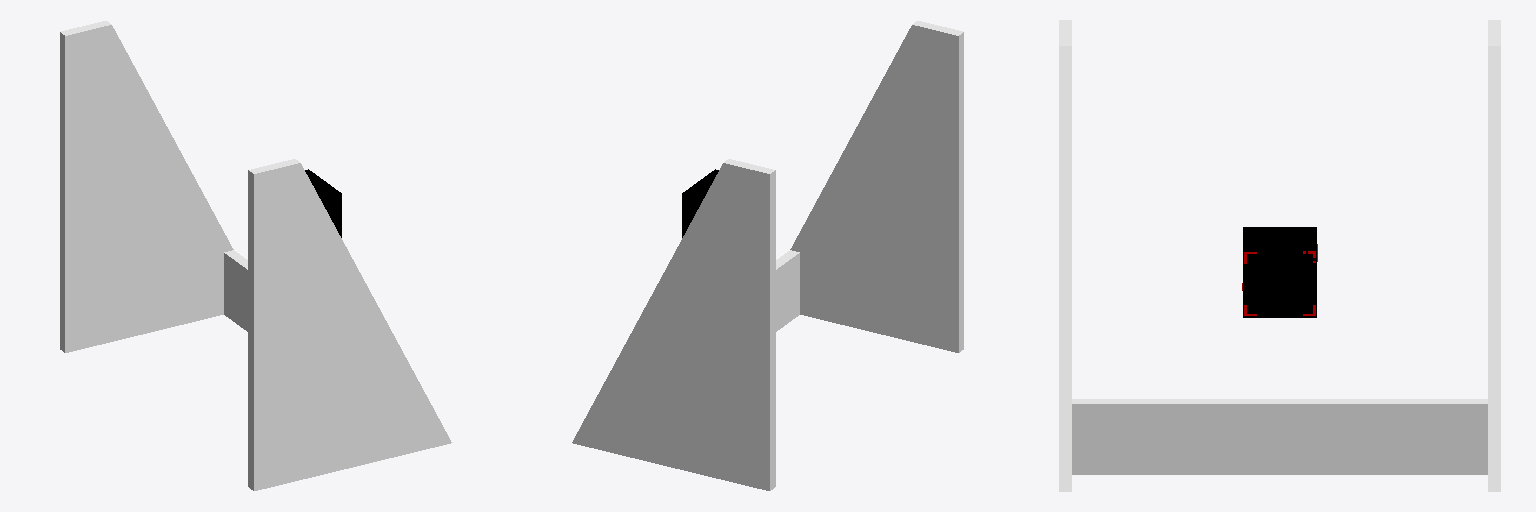
URDF robot description (exchanger):
<?xml version="1.0"?>
<robot name="exchanger">
  <!-- 世界坐标系虚拟链接 -->
  <!-- <link name="world"/> -->
  <link name="world"/>
  
  <joint name="world_joint" type="fixed">
    <parent link="world"/>
    <child link="exchanger"/>
    <origin xyz="0 0 0" rpy="0 0 0"/>
  </joint>
  <!-- 兑换站 -->
  <link name="exchanger">
    <visual>
      <geometry>
        <mesh filename="package://exchanger_des/meshes/exchanger.STL"/>
      </geometry>
      <material name="black">
        <color rgba="1 1 1 1"/>
      </material>
    </visual>
    <collision>
      <geometry>
        <mesh filename="package://exchanger_des/meshes/exchanger.STL"/>
      </geometry>
    </collision>
    <inertial>
      <mass value="1.0"/>
      <inertia ixx="0.001" ixy="0" ixz="0" iyy="0.001" iyz="0" izz="0.001"/>
    </inertial>
  </link>

  <!-- 矿曹 -->
  <link name="entry">
    <visual>
      <geometry>
        <mesh filename="package://exchanger_des/meshes/entry.STL"/>
      </geometry>
      <material name="black">
        <color rgba="0 0 0 1"/>
      </material>
    </visual>
    <collision>
      <geometry>
        <mesh filename="package://exchanger_des/meshes/entry.STL"/>
      </geometry>
    </collision>
    <inertial>
      <mass value="0.5"/>
      <inertia ixx="0.001" ixy="0" ixz="0" iyy="0.001" iyz="0" izz="0.001"/>
    </inertial>
  </link>

  <link name="left_lightbar">
    <visual>
      <geometry>
        <mesh filename="package://exchanger_des/meshes/side_light.STL"/>
      </geometry>
      <material name="red">
        <color rgba="1 0 0 1"/>
      </material>
    </visual>

    <inertial>
      <mass value="0.5"/>
      <inertia ixx="0.001" ixy="0" ixz="0" iyy="0.001" iyz="0" izz="0.001"/>
    </inertial>
  </link>

  <joint name="J_leftLIGHT" type="fixed">
    <origin xyz="-0.1455 0.144 0" rpy="1.57 0 0" />
    <parent link="entry" />
    <child link="left_lightbar" />
  </joint>

  <link name="right_lightbar">
    <visual>
      <geometry>
        <mesh filename="package://exchanger_des/meshes/side_light.STL"/>
      </geometry>
      <material name="red">
        <color rgba="1 0 0 1"/>
      </material>
    </visual>

    <inertial>
      <mass value="0.5"/>
      <inertia ixx="0.001" ixy="0" ixz="0" iyy="0.001" iyz="0" izz="0.001"/>
    </inertial>
  </link>

  <joint name="J_rightLIGHT" type="fixed">
    <origin xyz="-0.1455 -0.139 0" rpy="1.57 0 0" />
    <parent link="entry" />
    <child link="right_lightbar" />
  </joint>

  <!-- 正面左上 -->
  <link name="front_lightbar">
    <visual>
      <geometry>
        <mesh filename="package://exchanger_des/meshes/front_light.STL"/>
      </geometry>
      <material name="red">
        <color rgba="1 0 0 1"/>
      </material>
    </visual>

    <inertial>
      <mass value="0.5"/>
      <inertia ixx="0.001" ixy="0" ixz="0" iyy="0.001" iyz="0" izz="0.001"/>
    </inertial>
  </link>

  <joint name="J_frontLIGHT" type="fixed">
    <origin xyz="0 0 0" rpy="0 0 0" />
    <parent link="entry" />
    <child link="front_lightbar" />
  </joint>

  <link name="exchange_px"></link>
  <link name="exchange_py"></link>
  <link name="exchange_pz"></link>

  <link name="exchange_ry"></link>
  <link name="exchange_rz"></link>

  <joint name="J_px" type="prismatic">
    <origin xyz="0 0 0" rpy="0 0 0" />
    <parent link="exchanger" />
    <child link="exchange_px" />
    <axis xyz="1 0 0" />
    <limit lower="-0.270" upper="0" effort="1000" velocity="1000"/>
  </joint>

  <joint name="J_py" type="prismatic">
    <origin xyz="0 0 0" rpy="0 0 0" />
    <parent link="exchange_px" />
    <child link="exchange_py" />
    <axis xyz="0 1 0" />
    <limit lower="-0.255" upper="0.255" effort="1000" velocity="1000"/>
  </joint>

  <joint name="J_pz" type="prismatic">
    <origin xyz="0 0 0" rpy="0 0 0" />
    <parent link="exchange_py" />
    <child link="exchange_pz" />
    <axis xyz="0 0 1" />
    <limit lower="0.720" upper="0.900" effort="1000" velocity="1000"/>
  </joint>

<!-- 是z y x的旋转 sita fi arfa -->
  <joint name="J_rz" type="revolute">
    <origin xyz="0 0 0" rpy="0 0 0" />
    <parent link="exchange_pz"/>
    <child link="exchange_rz"/>  <!-- 修正子链接 -->
    <axis xyz="0 0 1" />
    <limit lower="-2.3561925" upper="2.3561925" effort="1000" velocity="1000"/>
  </joint>

  <joint name="J_ry" type="revolute">
    <origin xyz="0 0 0" rpy="0 0 0" />
    <parent link="exchange_rz"/>
    <child link="exchange_ry"/>
    <axis xyz="0 -1 0" />
    <limit lower="0" upper="1.570795" effort="1000" velocity="1000"/>
  </joint>

  <joint name="J_rx" type="revolute">
    <origin xyz="0 0 0" rpy="0 0 0" />
    <parent link="exchange_ry" />
    <child link="entry" />
    <axis xyz="1 0 0" />
    <limit lower="-0.78539" upper="0.78539" effort="1000" velocity="1000"/>
  </joint>

  
  <gazebo reference="left_lightbar">
    <material>Gazebo/Red</material>
  </gazebo>
  <gazebo reference="right_lightbar">
    <material>Gazebo/Red</material>
  </gazebo>
  <gazebo reference="front_lightbar1">
    <material>Gazebo/Red</material>
  </gazebo>
  <gazebo reference="entry">
    <gravity>false</gravity><!-- 关闭重力 -->
    <damping>0.1</damping> <!-- 防止过度振荡 -->
  </gazebo>
</robot>

--- Facts derived from the render (not from the file) ---
The picture shows the robot from 3 angles, left to right: view 1: azimuth 30°, elevation 25°; view 2: azimuth 150°, elevation 25°; view 3: azimuth 270°, elevation 25°; orthographic projection.
Robot: exchanger — 11 links, 10 joints (3 revolute, 3 prismatic, 4 fixed); root link world; default pose: all joints at 0 but 1 set to mid-range because 0 is outside their limits (J_pz = 0.81).
Visible links, largest first — view 1: exchanger, entry; view 2: exchanger, entry; view 3: exchanger, entry.
Link boxes in pixels (<box>): exchanger: <box>60,21,451,490</box>; entry: <box>305,169,341,237</box>; exchanger: <box>572,21,963,490</box>; entry: <box>682,169,718,237</box>; exchanger: <box>1059,20,1500,491</box>; entry: <box>1243,227,1316,317</box>.
Bounding box of the posed robot: 1 × 1.7 × 1.53 m (x, y, z).
5 mesh visuals loaded from 4 distinct referenced files (4 binary STL).
